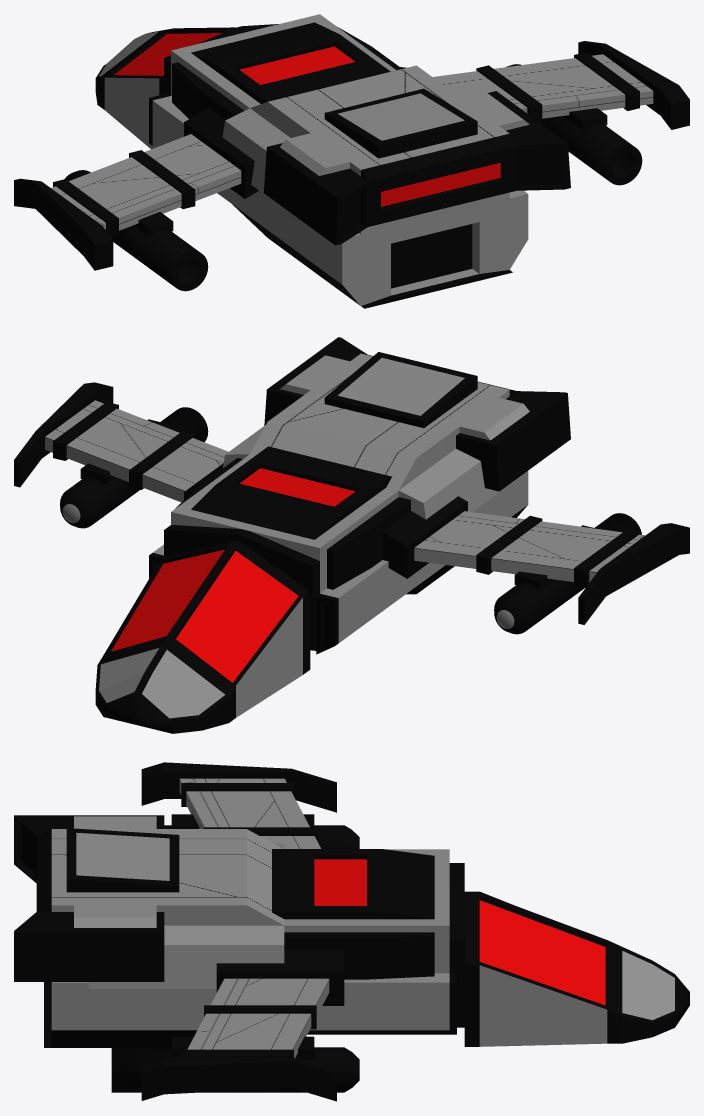
Rendered from SpaceShip02.fbx.
The picture shows the model from 3 angles, top to bottom: view 1: azimuth 30°, elevation 25°; view 2: azimuth 150°, elevation 25°; view 3: azimuth 270°, elevation 25°; orthographic projection. The views are drawn at different scales.
Visible parts, largest first — view 1: Spacship02; view 2: Spacship02; view 3: Spacship02.
Part boxes in pixels (x1=…): Spacship02: x1=14, y1=14, x2=689, y2=308; Spacship02: x1=14, y1=337, x2=689, y2=733; Spacship02: x1=14, y1=762, x2=689, y2=1101.
Bounding box in the file's own units: 960 × 230 × 900.
